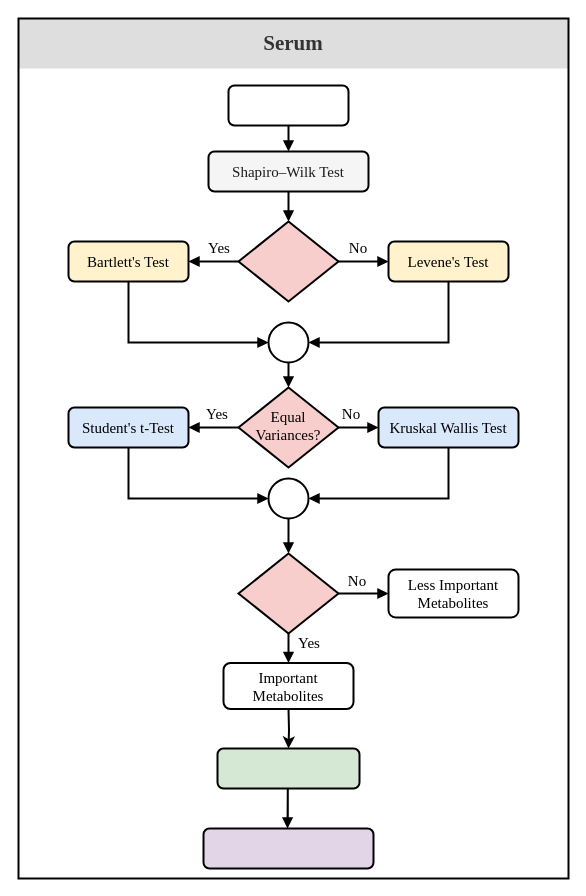
The diagram is 586 pixels wide and 896 high, and some of its shapes have lost their labels. The shapes that lost their labels are listed below. From the top down, each one's centre as x and y in pixels, then its label:
(288,105): Serum Sample
(288,261): Normally Distributed?
(288,593): p-value < 0.015?
(288,768): Recursive Feature Elimination
(288,848): Random Forest Classifier
